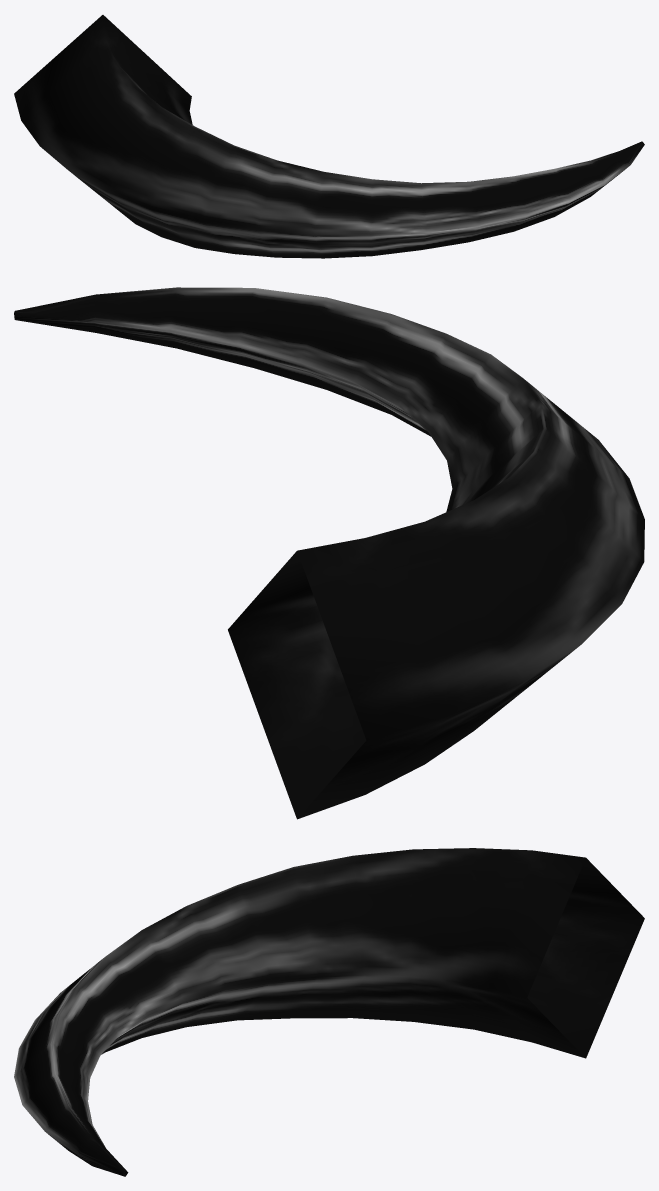
Rendered from EffCommonSpinWind.obj.
The picture shows the model from 3 angles, top to bottom: view 1: azimuth 30°, elevation 25°; view 2: azimuth 150°, elevation 25°; view 3: azimuth 270°, elevation 25°; orthographic projection. The views are drawn at different scales.
Visible parts, largest first — view 1: polygon0; view 2: polygon0; view 3: polygon0.
Part boxes in pixels (x1,y1,x2,y2): polygon0: (14,15,644,258); polygon0: (14,287,644,819); polygon0: (14,848,644,1176).
Bounding box in the file's own units: 17.04 × 5.72 × 16.28.
Materials: 1 (1 with a texture image).
